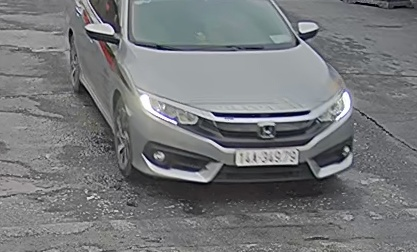vehicle plate: (232, 143, 299, 169)
